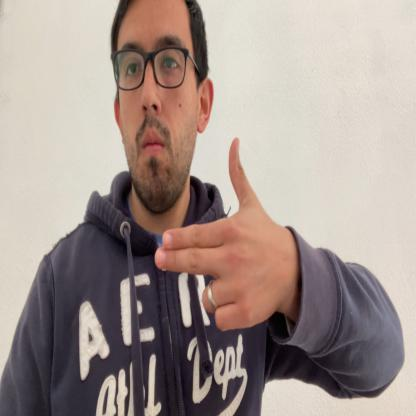H: (153, 137, 281, 331)
